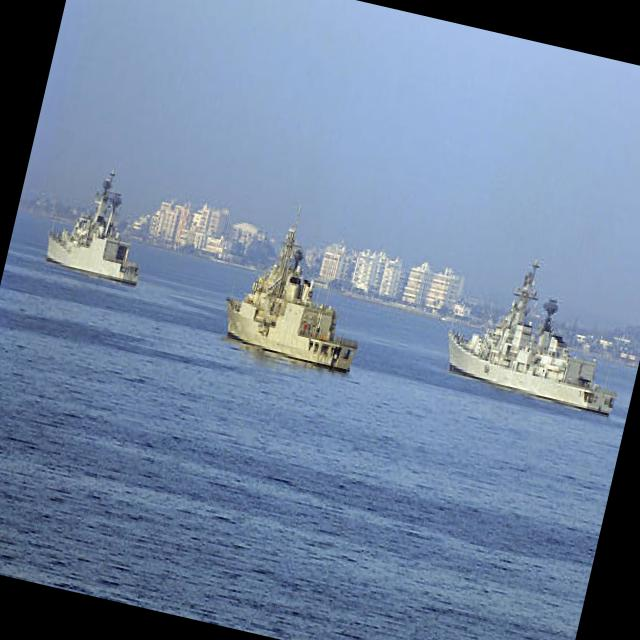Military: (448, 259, 616, 414), (226, 230, 353, 374), (44, 177, 137, 286)
